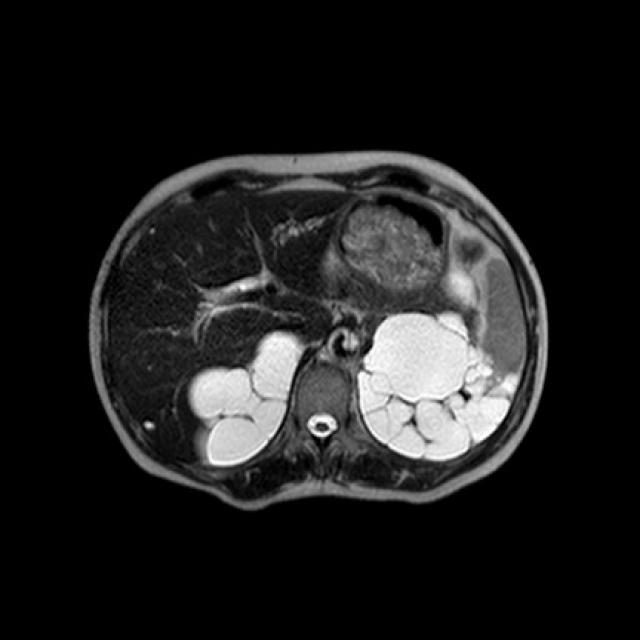sag: (187, 327, 304, 467)
sol: (356, 310, 520, 461)
